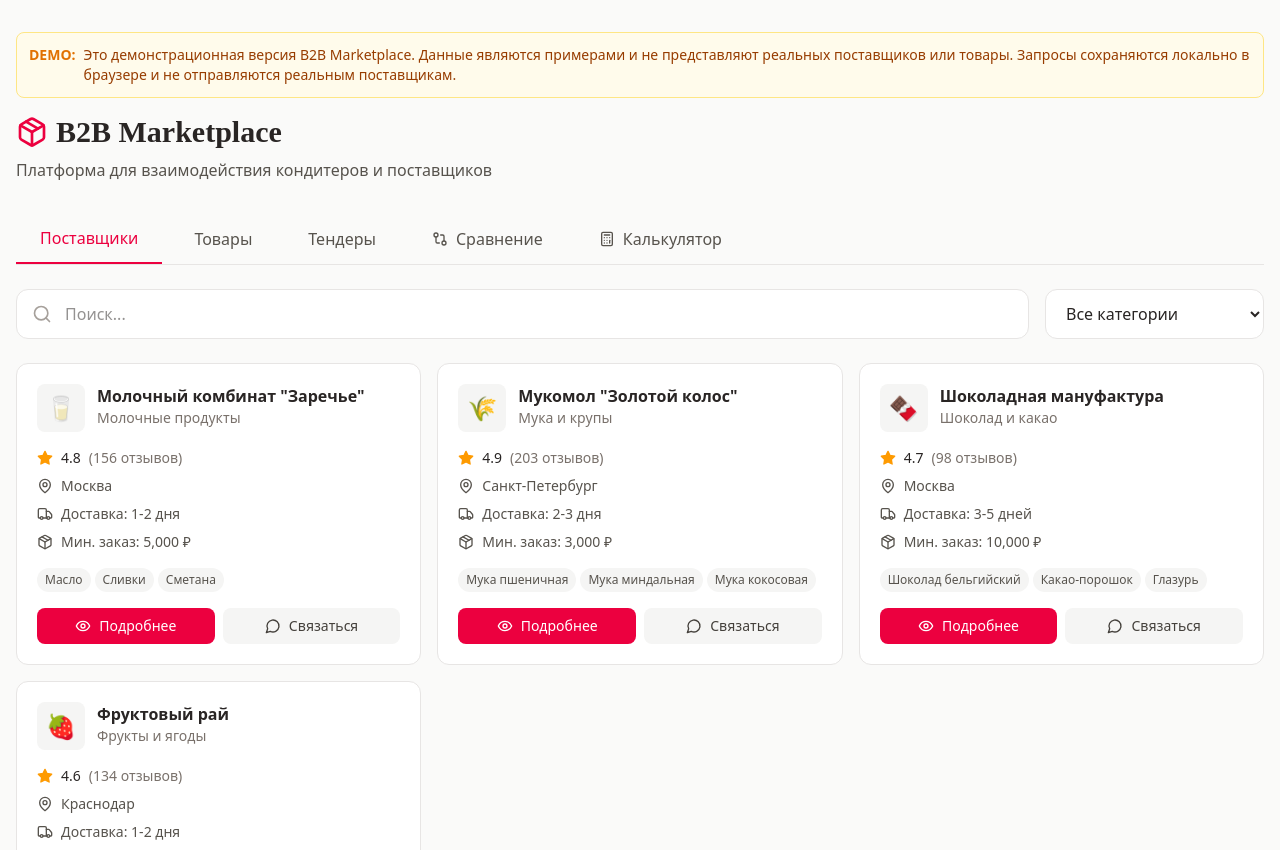
Scenario: B2B Marketplace V2 › Сравнение товаров › должен добавлять товар в список сравнения
The image size is (1280, 850).
Перейти на вкладку товаров
Click the button "Товары" at (223, 239), box [170,214,276,264]
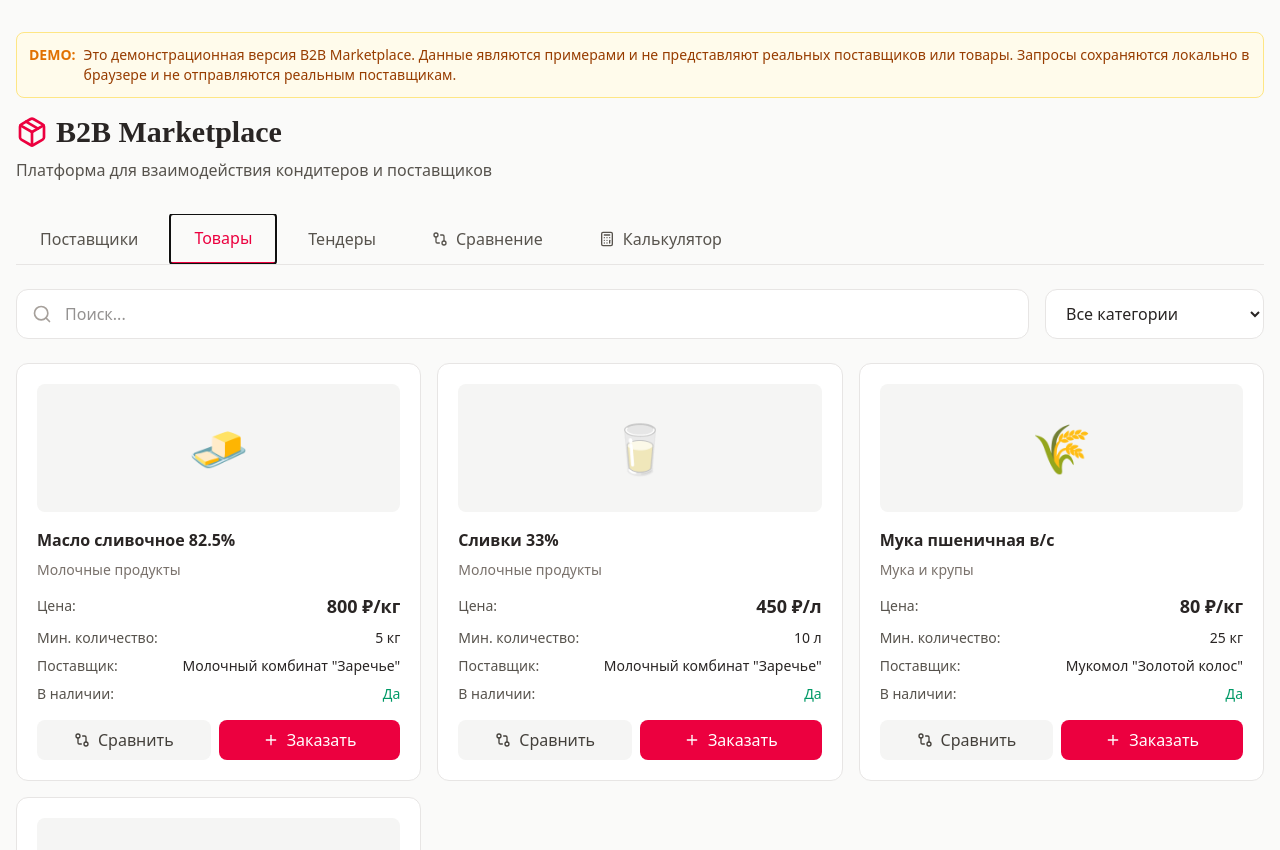
Найти кнопку "Сравнить"
Click the button "Сравнить" below "800" at (124, 740), box [37,720,211,760]
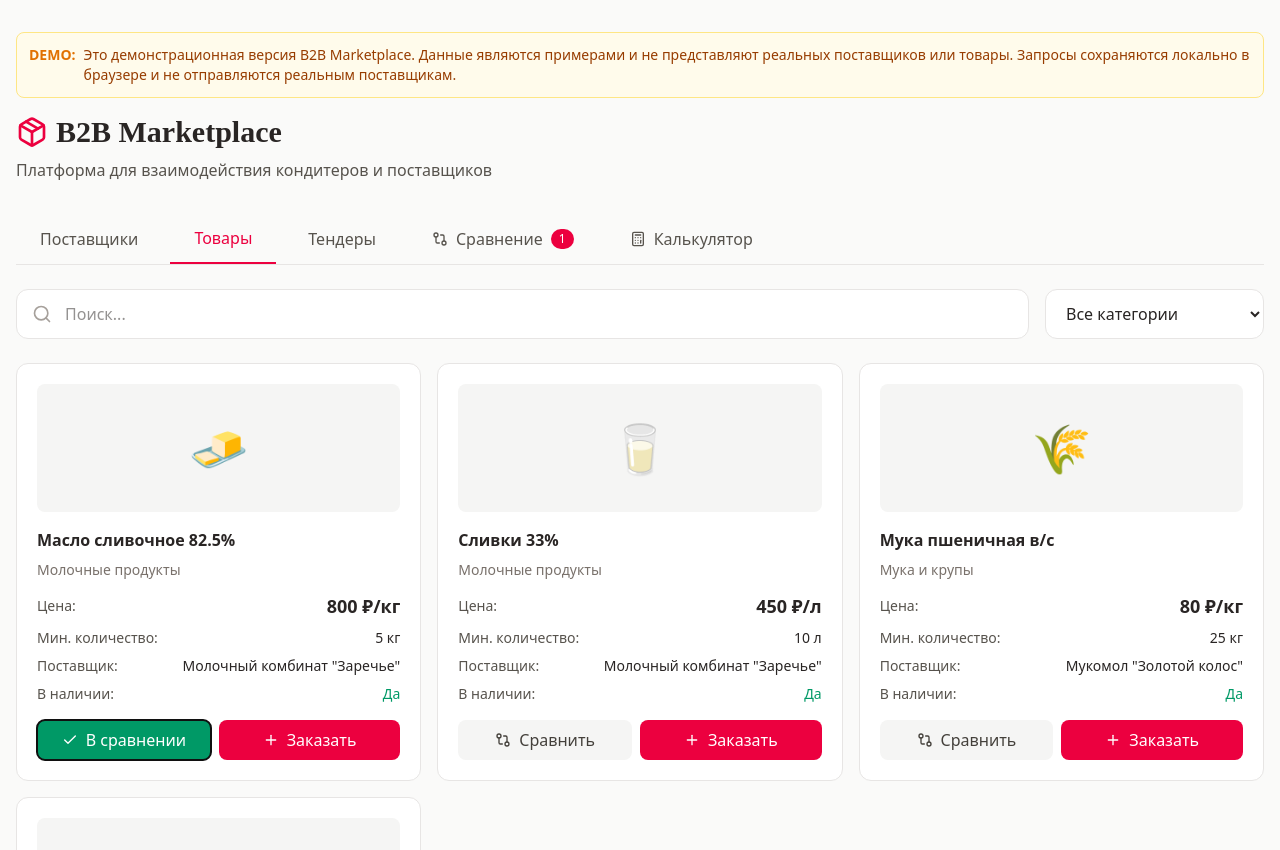
Now the text "1" is shown, box [551,229,574,249]
